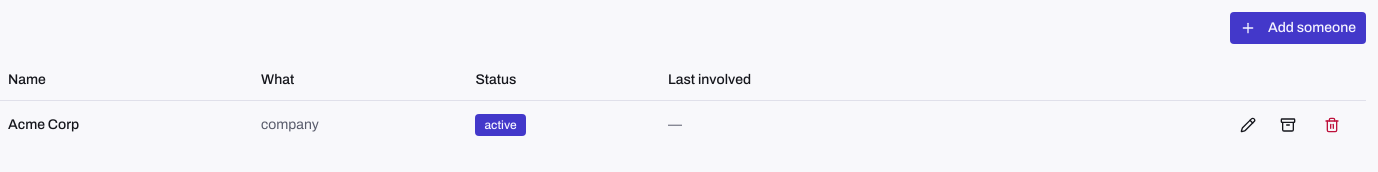
Test: EntitiesView › leaves the row in place when the archive request fails
This screenshot has width=1378, height=172.
Click the button named "Archive Acme Corp": (1288, 124) [1270,108,1306,140]
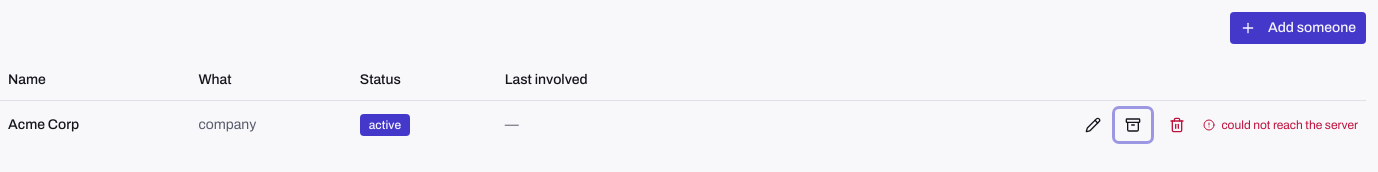
Expected: the link "Acme Corp" is shown, [8,116,79,132]
Now the text "could not reach the server" is shown, box [1203,116,1358,132]
